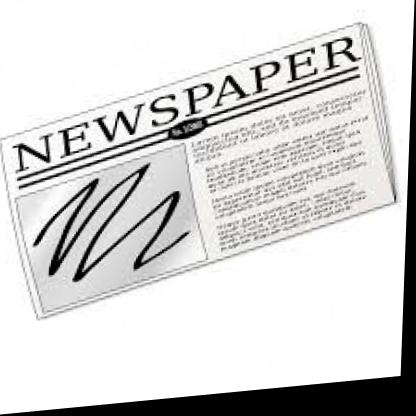Paper: (4, 7, 415, 382)
